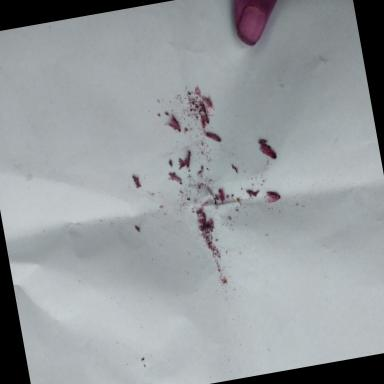pbw: (162, 114, 182, 135), (259, 141, 277, 162), (203, 129, 222, 145), (266, 190, 281, 204), (183, 150, 194, 169), (169, 170, 182, 184), (132, 174, 142, 190), (202, 95, 212, 108), (200, 224, 210, 232)
